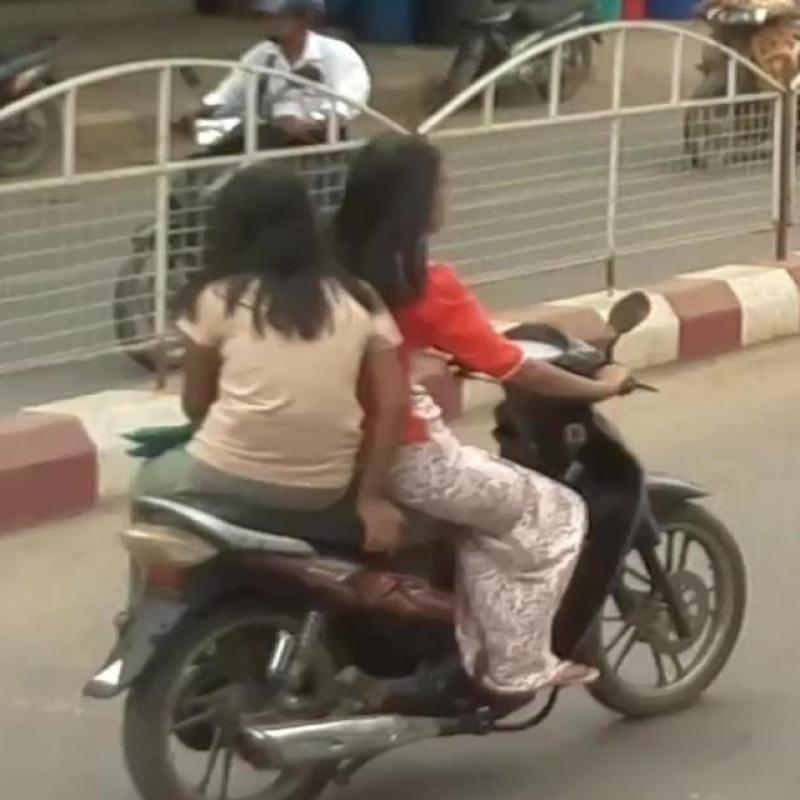nohelmet: (365, 104, 519, 306), (201, 136, 358, 330)
